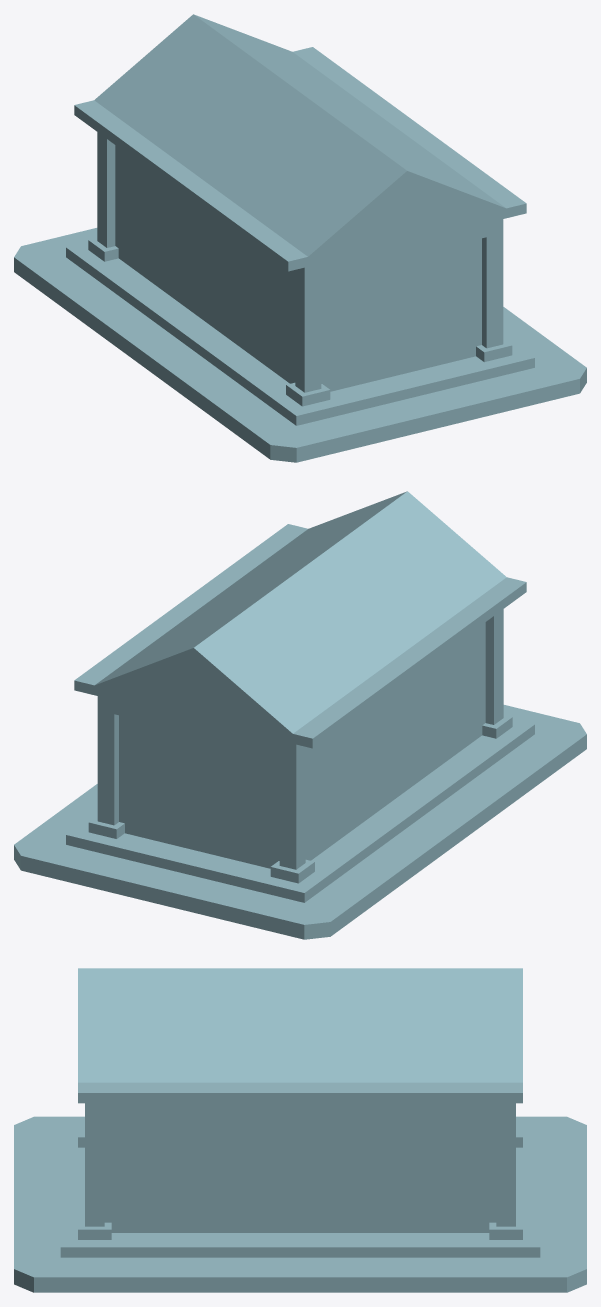
Rendered from crypt.obj.
3 renders of one model, top to bottom at view 1: azimuth 30°, elevation 25°; view 2: azimuth 150°, elevation 25°; view 3: azimuth 270°, elevation 25°, orthographic. The views are drawn at different scales.
Parts seen in each view (by area): view 1: crypt; view 2: crypt; view 3: crypt.
Part boxes in pixels (x1=…): crypt: x1=14, y1=14, x2=586, y2=462; crypt: x1=14, y1=491, x2=586, y2=939; crypt: x1=14, y1=968, x2=586, y2=1292.
Size of the model in its own units: 0.7504 by 0.532 by 1.13.
